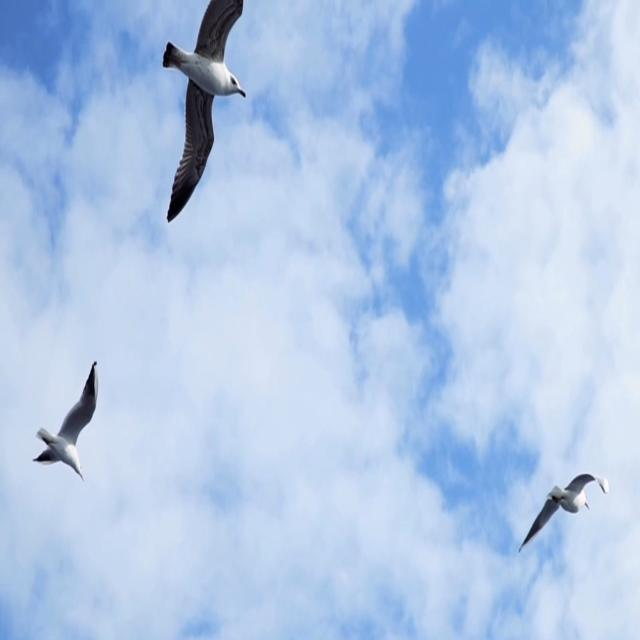bird: (162, 0, 254, 240), (505, 428, 617, 558), (31, 358, 110, 488)
